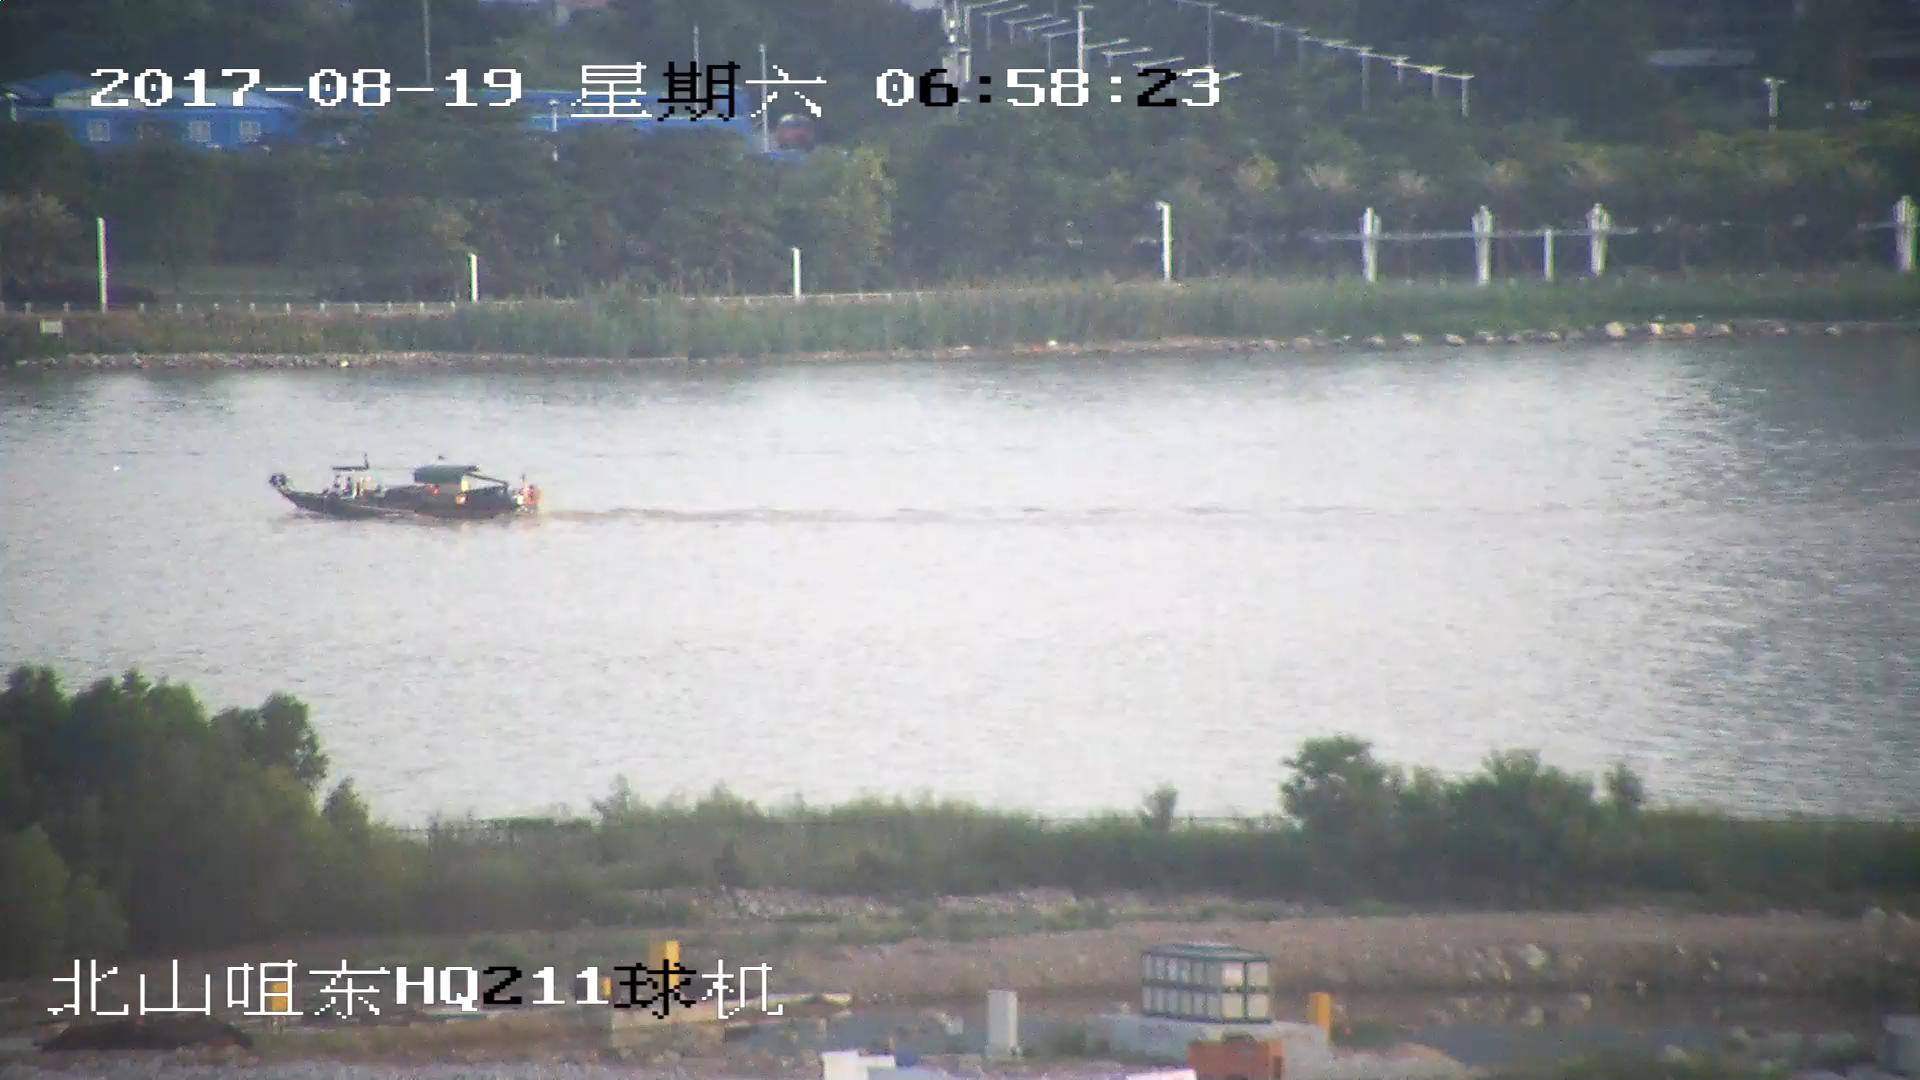fishing boat: (272, 457, 539, 524)
